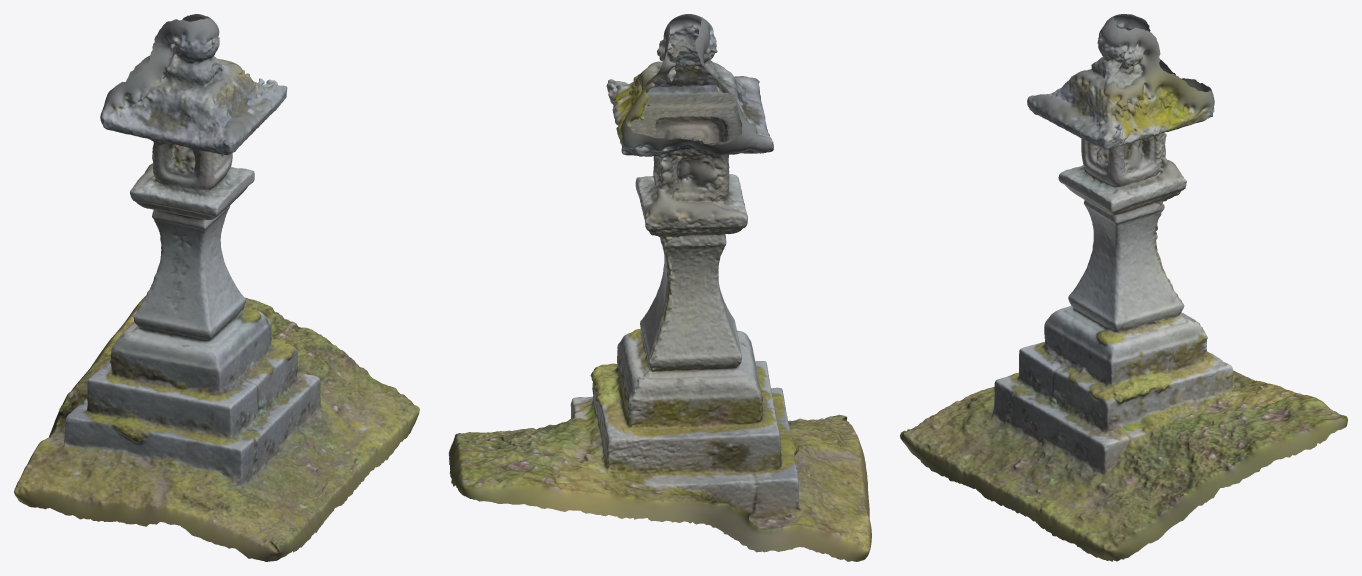
Rendered from source-objaverse.glb.
3 renders of one model, left to right at view 1: azimuth 30°, elevation 25°; view 2: azimuth 150°, elevation 25°; view 3: azimuth 270°, elevation 25°, orthographic. The views are drawn at different scales.
Parts seen in each view (by area): view 1: Model; view 2: Model; view 3: Model.
Boxes of the visible parts, <box> form: Model: <box>14,14,419,561</box>; Model: <box>448,14,871,561</box>; Model: <box>900,14,1347,561</box>.
Size of the model in its own units: 6.6 by 7.44 by 6.73.
